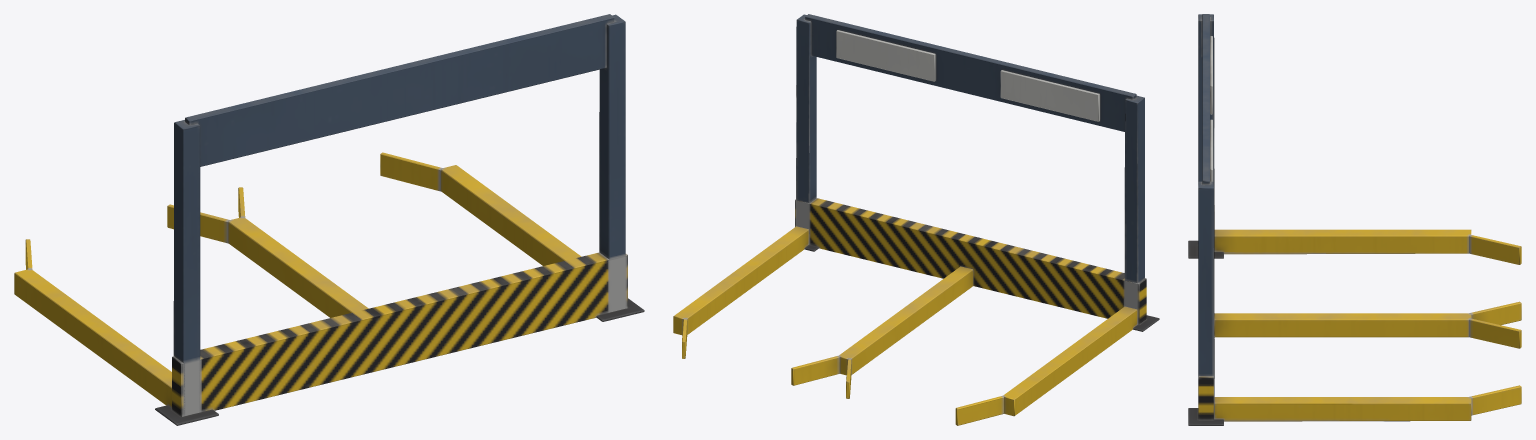
The model's file is WagonParkingFrame.fbx.
The picture shows the model from 3 angles, left to right: view 1: azimuth 30°, elevation 25°; view 2: azimuth 150°, elevation 25°; view 3: azimuth 270°, elevation 25°; orthographic projection. The views are drawn at different scales.
Visible parts, largest first — view 1: WagonParkingFrame_LOD0; view 2: WagonParkingFrame_LOD0; view 3: WagonParkingFrame_LOD0.
Boxes of the visible parts, <box> form: WagonParkingFrame_LOD0: <box>14,14,644,425</box>; WagonParkingFrame_LOD0: <box>673,14,1159,425</box>; WagonParkingFrame_LOD0: <box>1188,14,1521,425</box>.
Size of what is drawn, in the model's own units: 2.2 by 1.32 by 1.68.
Materials: 1 (1 with a texture image).
